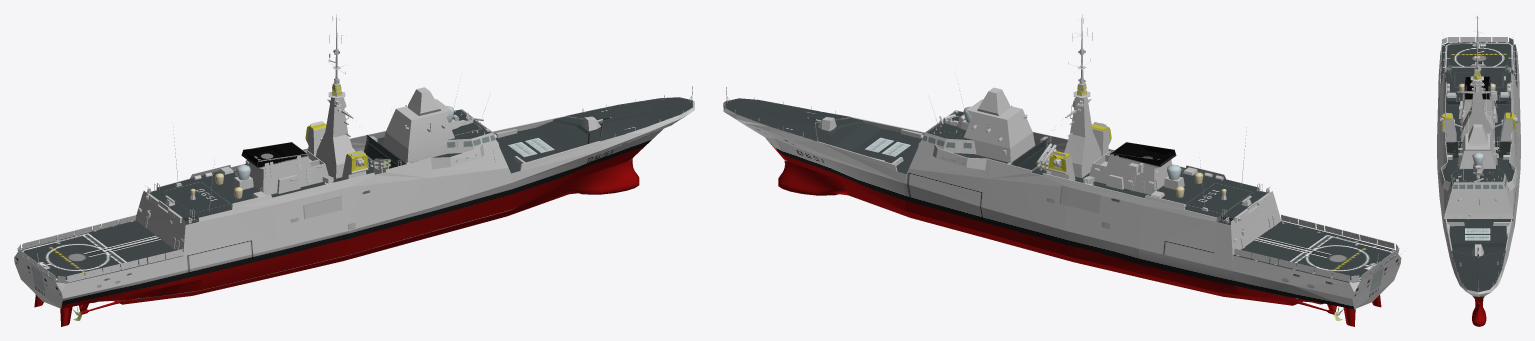
File: Aquitaine 3D models.fbx
The picture shows the model from 3 angles, left to right: view 1: azimuth 30°, elevation 25°; view 2: azimuth 150°, elevation 25°; view 3: azimuth 270°, elevation 25°; orthographic projection. The views are drawn at different scales.
Visible parts, largest first — view 1: HLOD-9000; view 2: HLOD-9000; view 3: HLOD-9000.
Boxes of the visible parts, left/top/right/bottom form: HLOD-9000: left=14, top=14, right=694, bottom=326; HLOD-9000: left=723, top=14, right=1401, bottom=326; HLOD-9000: left=1437, top=16, right=1520, bottom=326.
Size of the model in its own units: 5531 by 1971 by 758.
